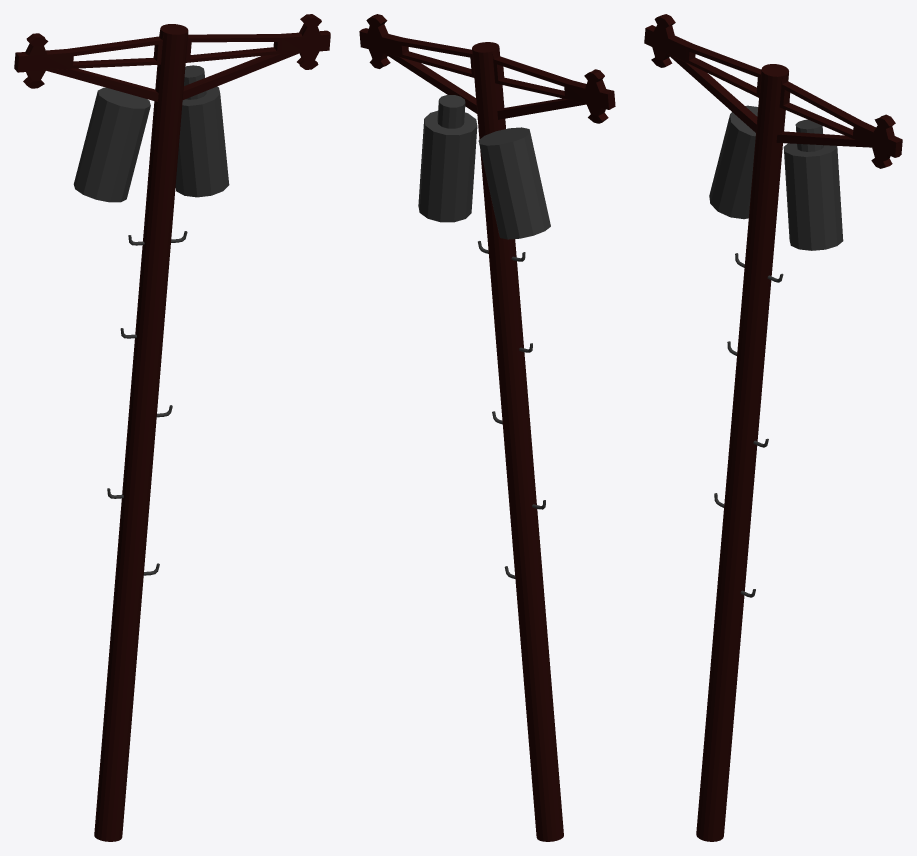
Rendered from Power_Line_Pole.obj.
3 views of the same model, side by side, from view 1: azimuth 30°, elevation 25°; view 2: azimuth 150°, elevation 25°; view 3: azimuth 330°, elevation 25° (orthographic). The views are drawn at different scales.
Visible parts, largest first — view 1: power_line_pole; view 2: power_line_pole; view 3: power_line_pole.
Boxes of the visible parts, x1,y1,x2,y2 form: power_line_pole: (14, 14, 330, 841); power_line_pole: (359, 14, 615, 841); power_line_pole: (644, 14, 902, 841).
Bounding box in the file's own units: 3.72 × 10.04 × 1.07.
